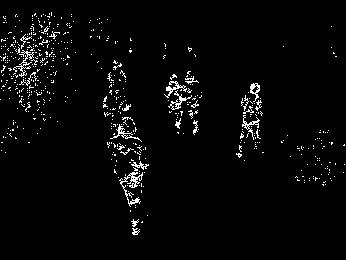person: (107, 117, 151, 233), (235, 81, 266, 158), (100, 59, 133, 118), (178, 69, 203, 136), (165, 74, 184, 137)
